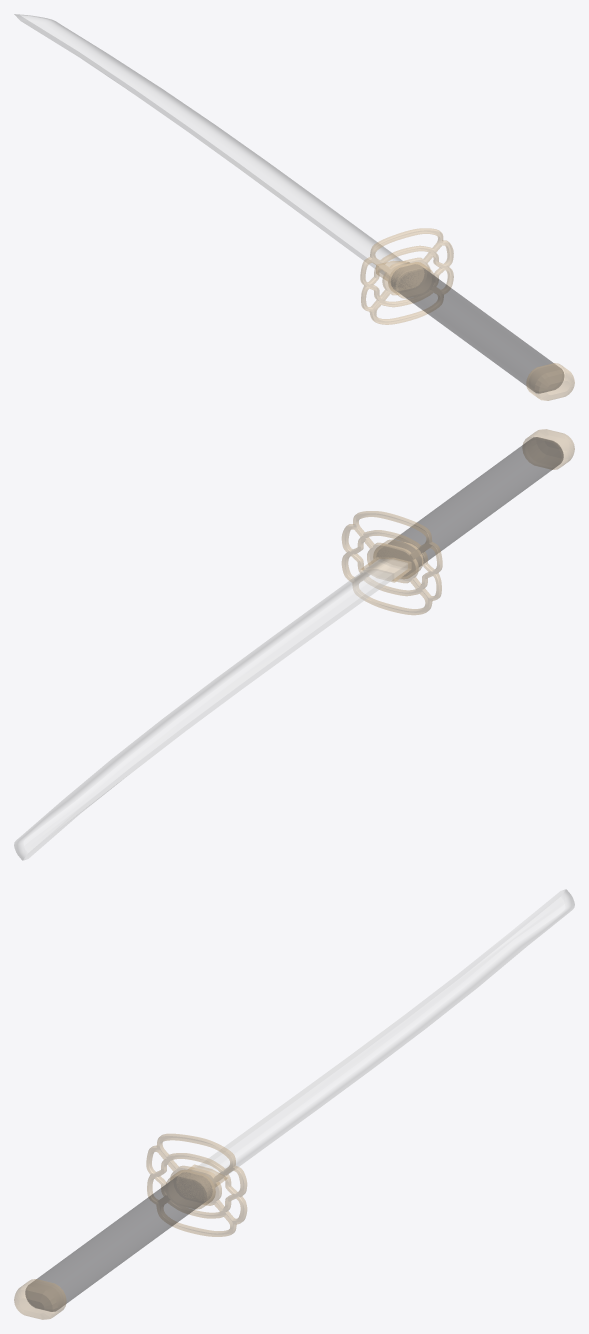
The model's file is KATANA.glb.
3 renders of one model, top to bottom at view 1: azimuth 30°, elevation 25°; view 2: azimuth 150°, elevation 25°; view 3: azimuth 330°, elevation 25°, orthographic. The views are drawn at different scales.
Parts seen in each view (by area): view 1: katana; view 2: katana; view 3: katana.
Part boxes in pixels (x1,y1,x2,y2): katana: [14, 14, 574, 400]; katana: [14, 429, 574, 860]; katana: [14, 889, 574, 1319].
Size of the model in its own units: 26.62 by 24.64 by 260.
